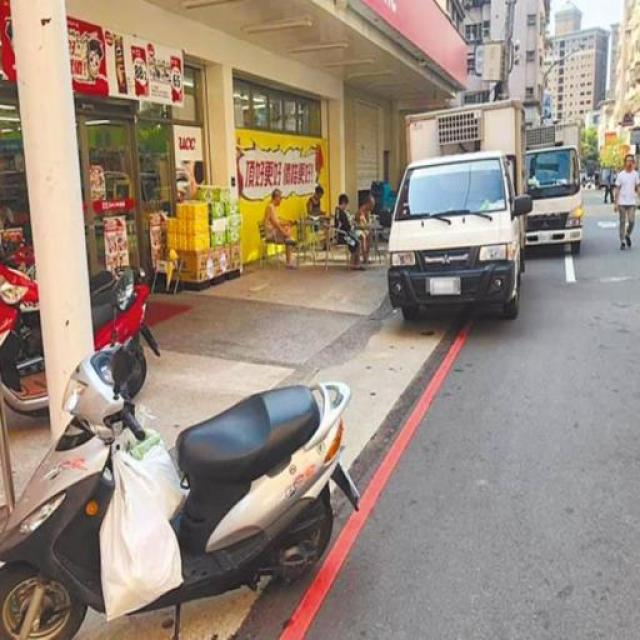Legalparking: (0, 357, 357, 629), (390, 105, 536, 326)
illegalparking: (0, 259, 168, 441)
